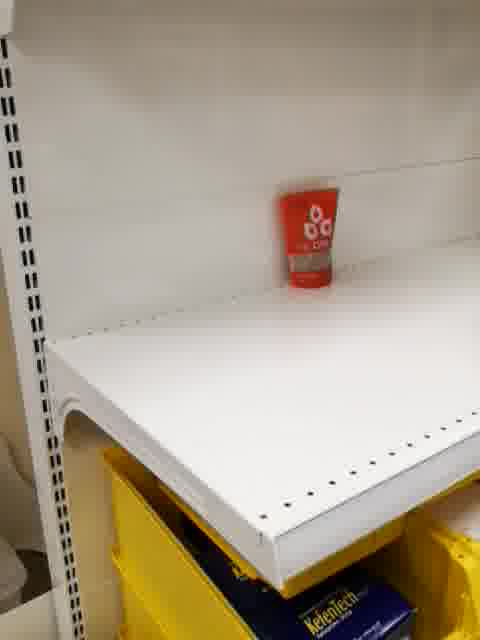whitechia: (278, 186, 345, 289)
